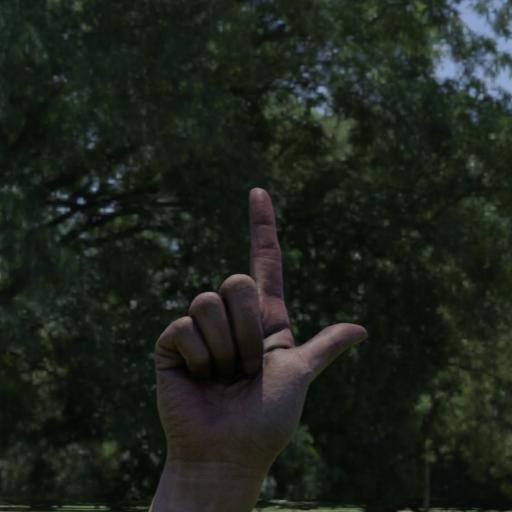L: (127, 174, 366, 490)
